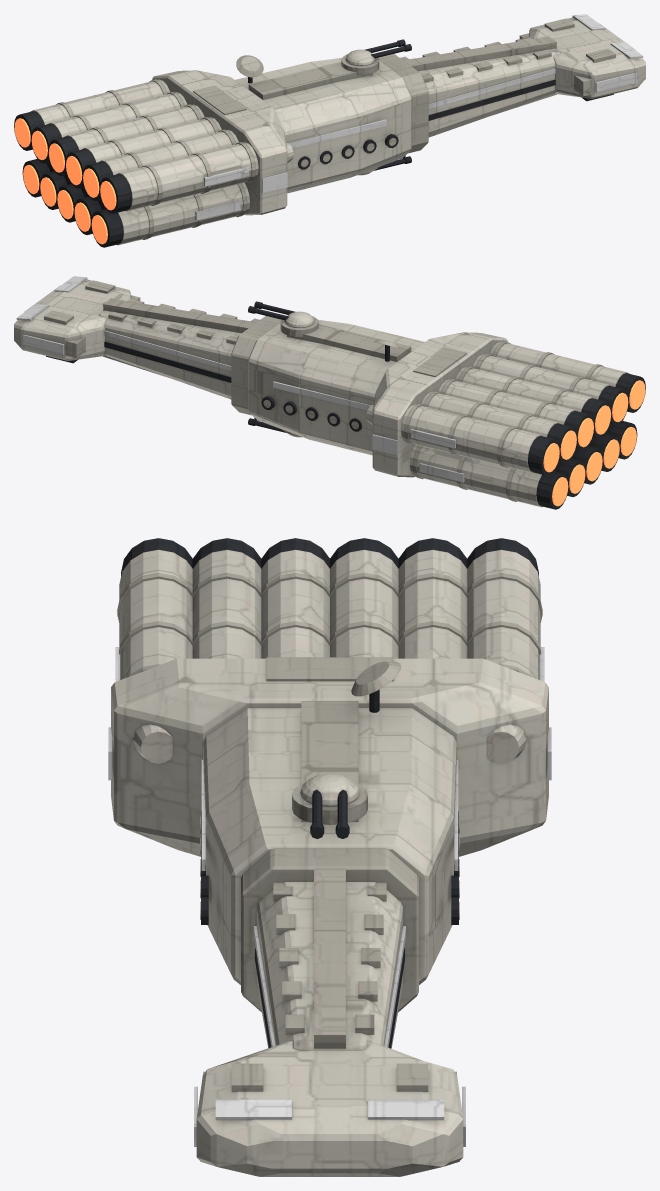
The model's file is rebel-corvette.glb.
The picture shows the model from 3 angles, top to bottom: view 1: azimuth 30°, elevation 25°; view 2: azimuth 150°, elevation 25°; view 3: azimuth 270°, elevation 25°; orthographic projection. The views are drawn at different scales.
Parts seen in each view (by area): view 1: CR90_Corvette; view 2: CR90_Corvette; view 3: CR90_Corvette.
Boxes of the visible parts, x1,y1,x2,y2 form: CR90_Corvette: (14, 14, 645, 247); CR90_Corvette: (14, 276, 645, 509); CR90_Corvette: (108, 538, 551, 1176).
Bounding box in the file's own units: 2.03 × 0.4505 × 0.698.
Materials: 6 (6 with a texture image).
